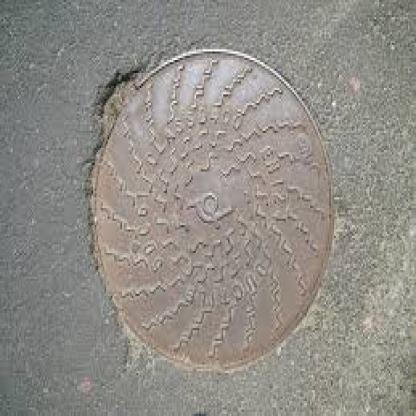manholes: (63, 30, 374, 390)
